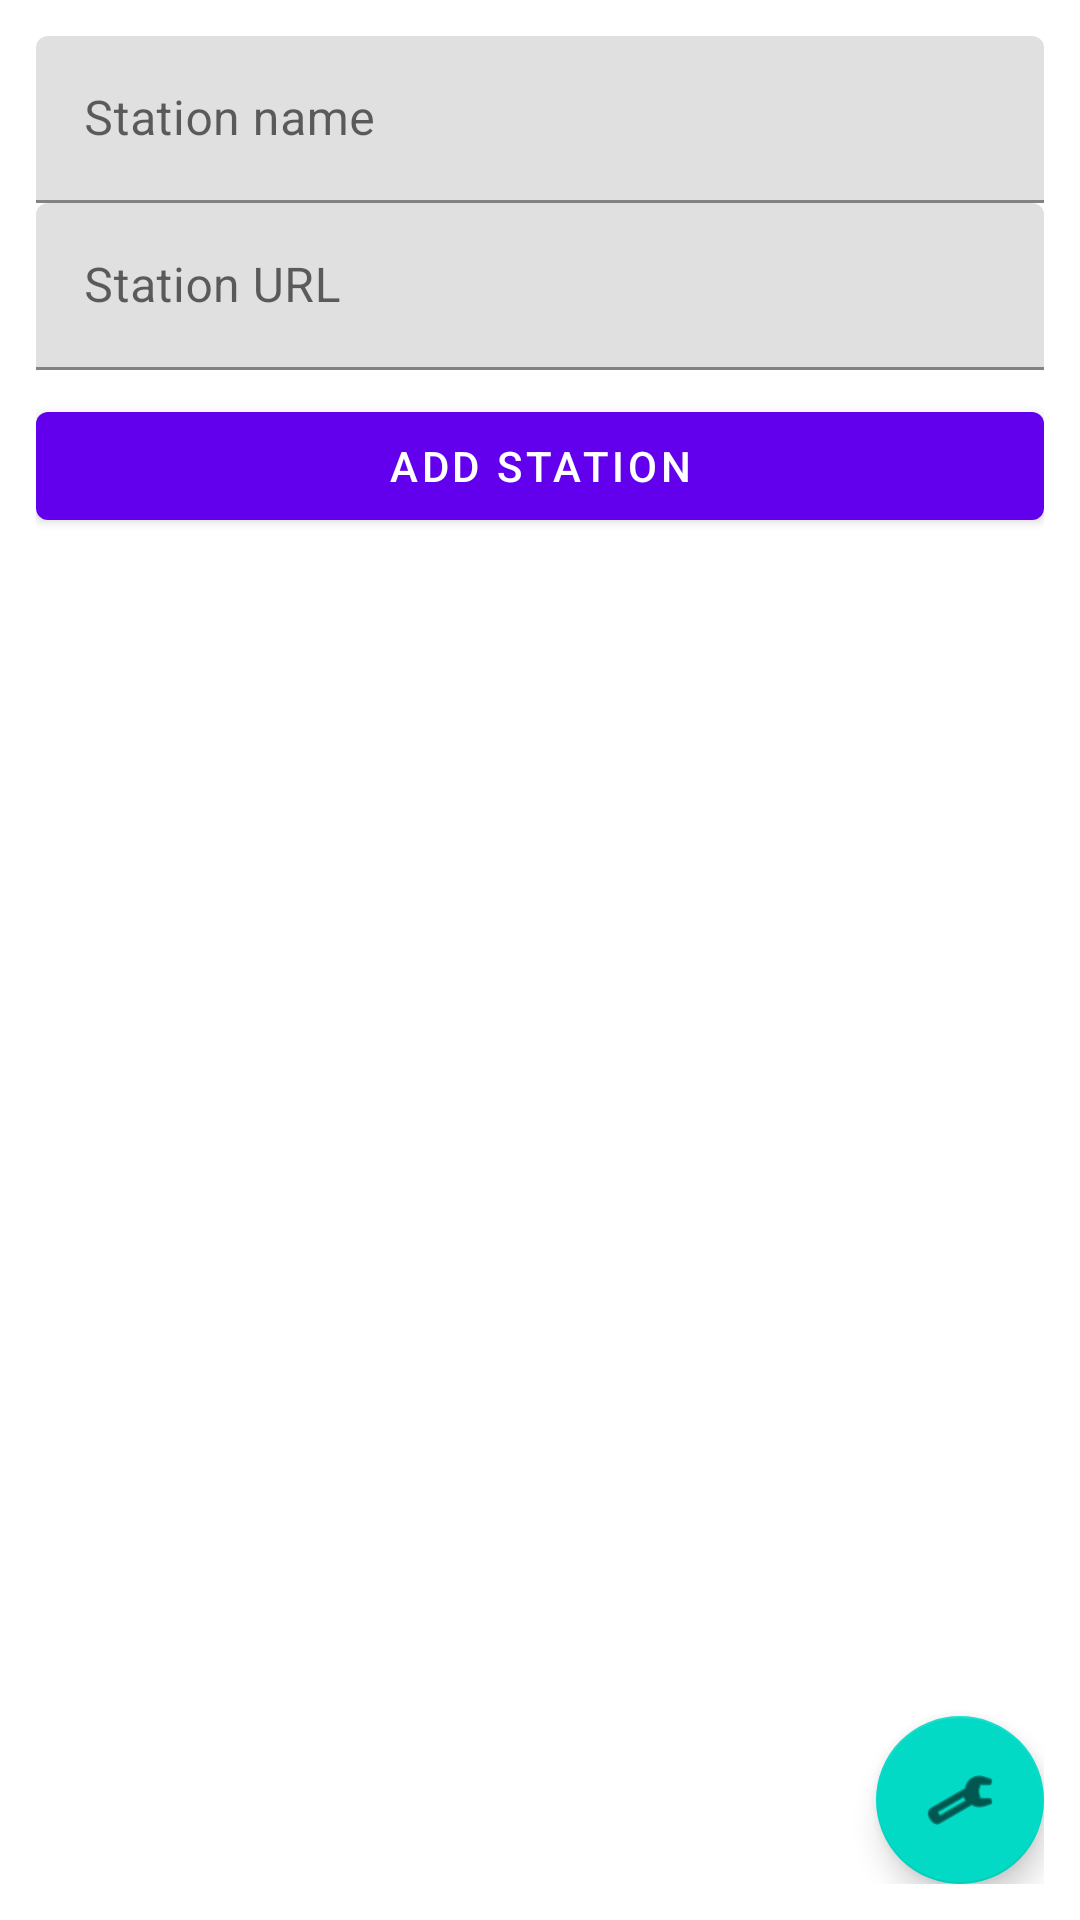

Named icons in this screenshot (1080w x 1920h) and their centers, (x,y):
manage: (960,1800)
